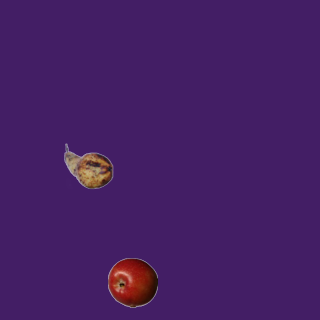Apple Braeburn: (107, 257, 157, 307)
Pear Abate: (63, 141, 113, 191)
